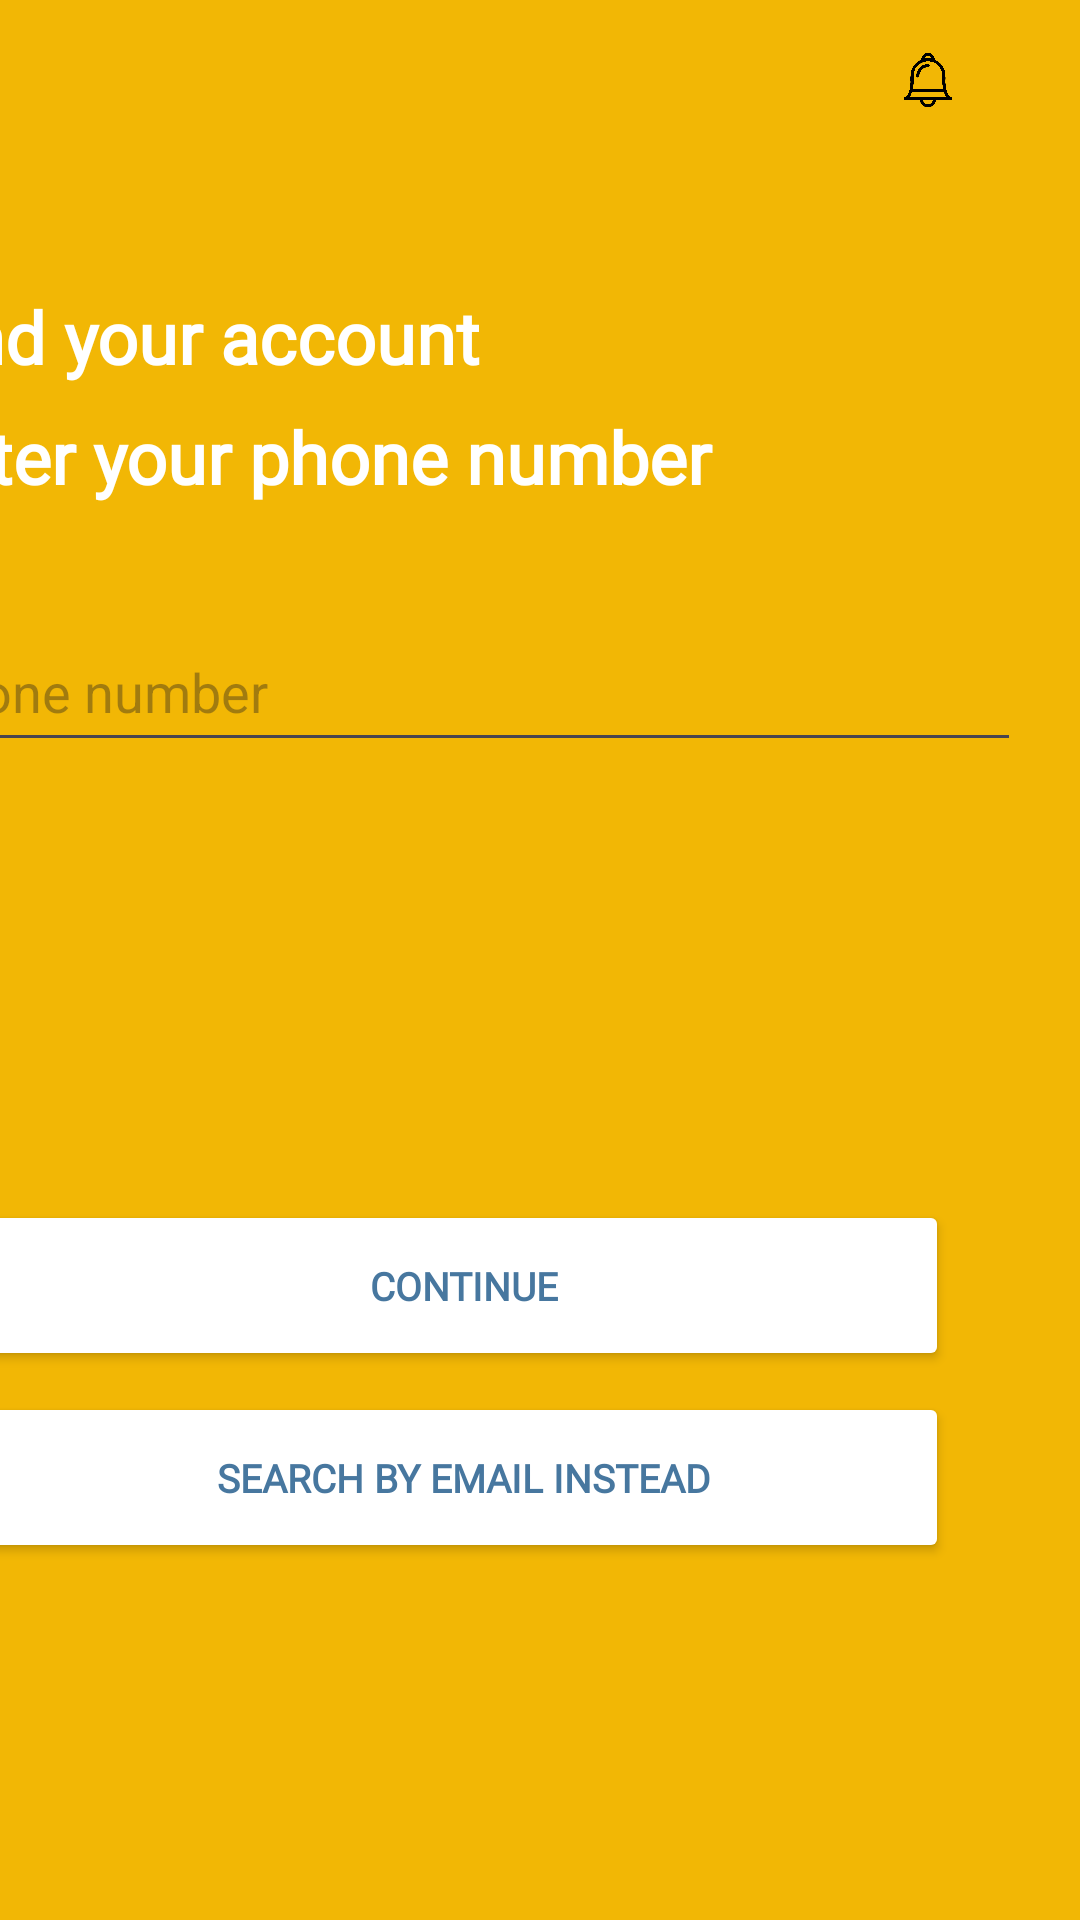

Where icons sit on this 1080px×1920px app screen, as (x1, y1, x2, y2):
bellicon: (904, 53, 952, 107)
